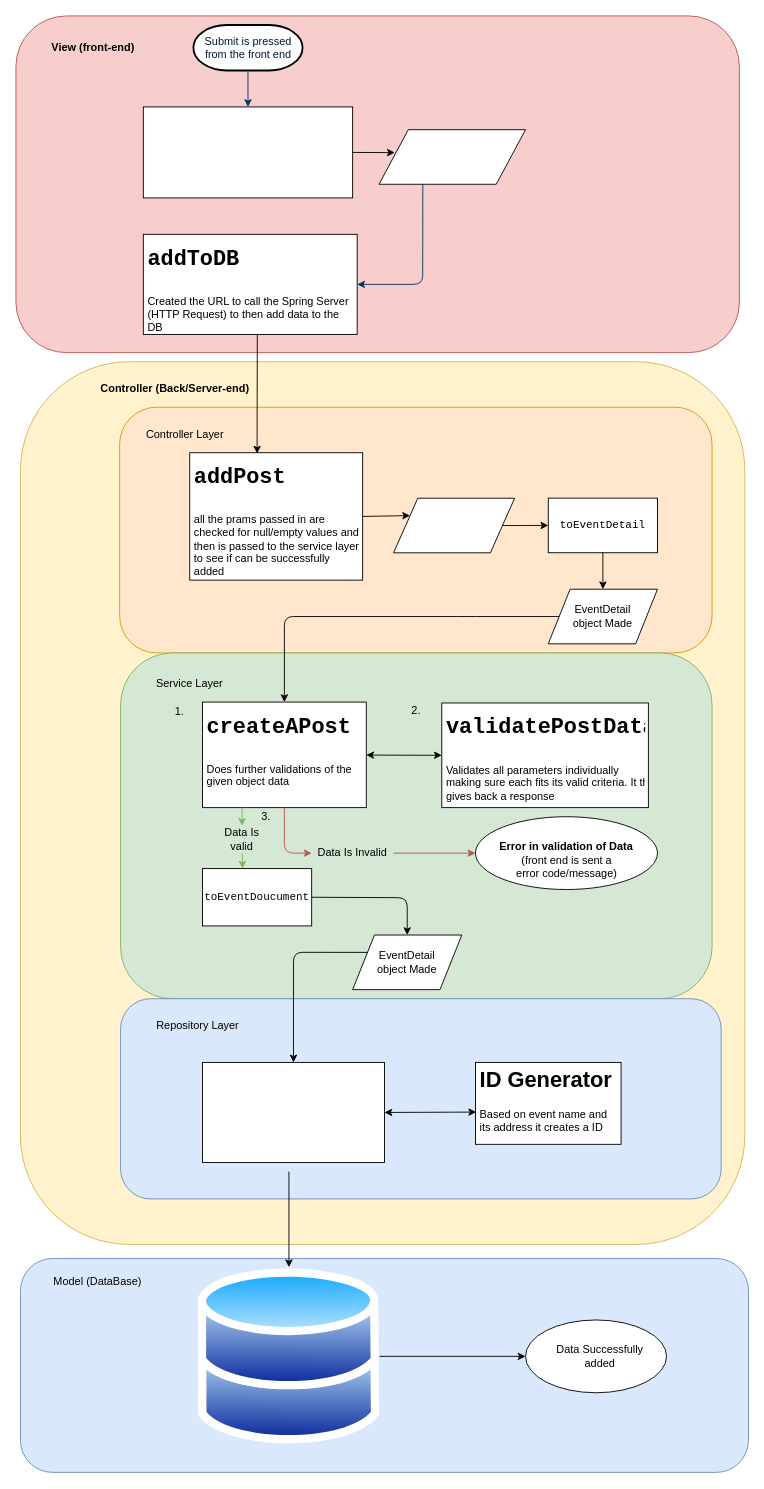
The diagram is 764 pixels wide and 1489 high, and some of its shapes have lost their labels. The box of each missing label's shape, as (x1, y1, x2, y2) in pixels:
addPost Communicates the DB to save the document that was passed to it.: (202, 1062, 384, 1163)
CouchBase DB (for Events): (198, 1267, 379, 1445)
EventResource Object Made: (393, 497, 515, 553)
handleFormSubmit called and creates a Post object (JS) with the given data: (142, 106, 353, 198)
POST OBJECT has all data to be added: (378, 129, 526, 184)
